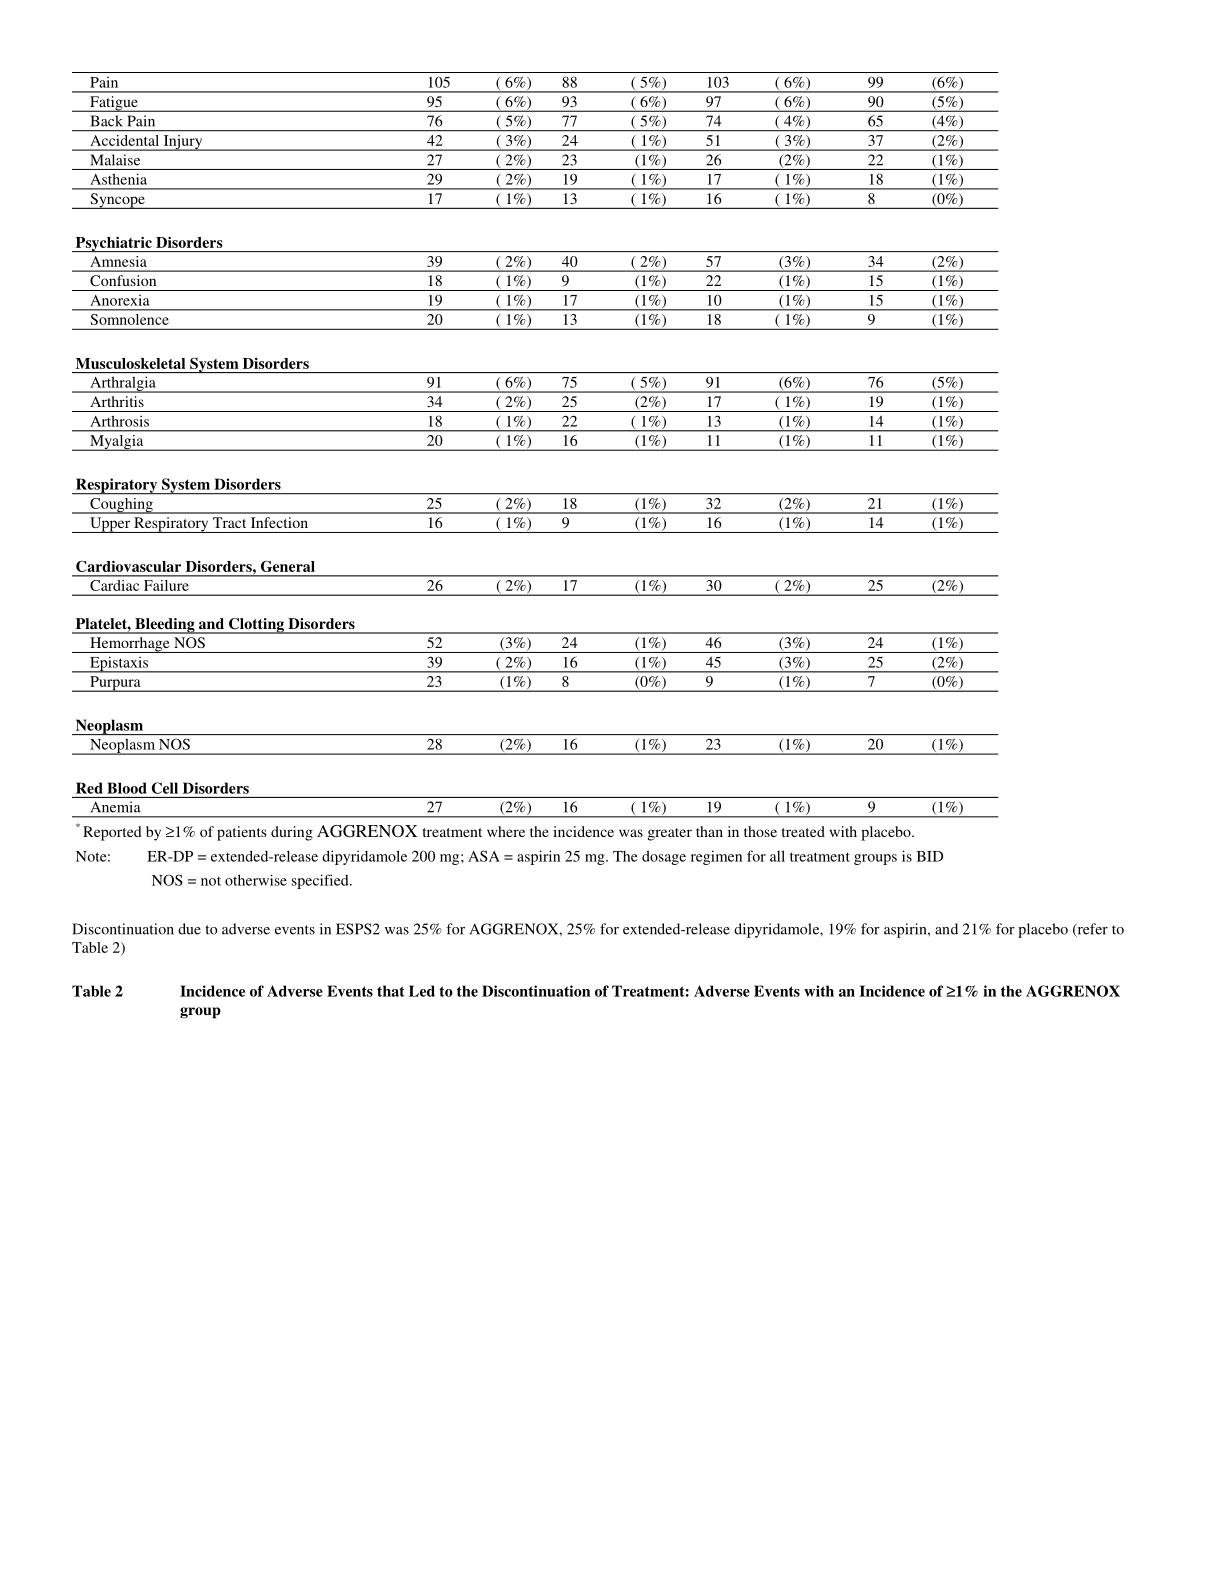partial_lined_merged_cells: (68, 68, 1002, 820)
